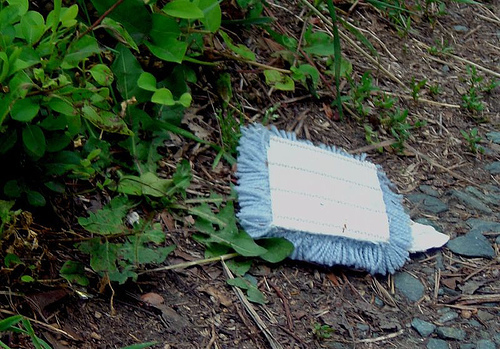litter: (234, 123, 413, 276)
